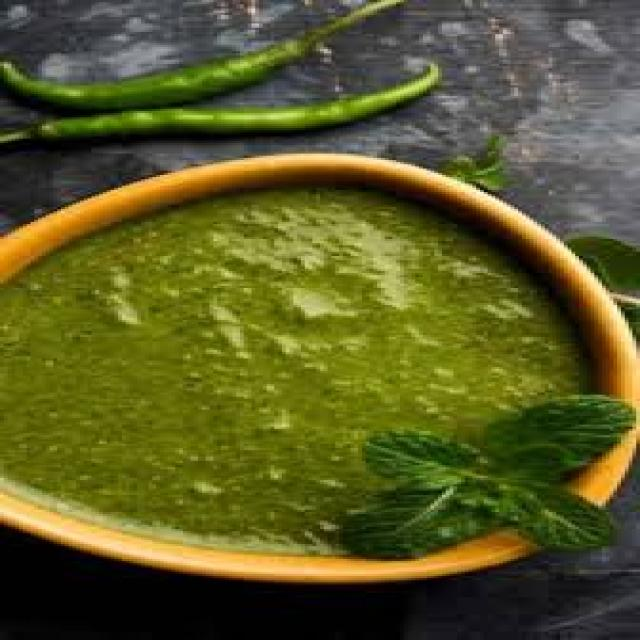GREEN CHUTNEY: (0, 181, 616, 556)
